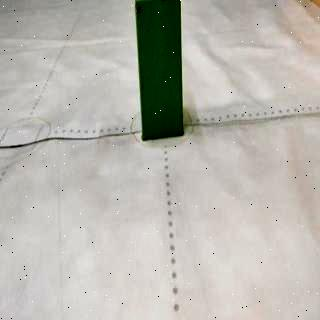greenbox: (136, 2, 184, 141)
